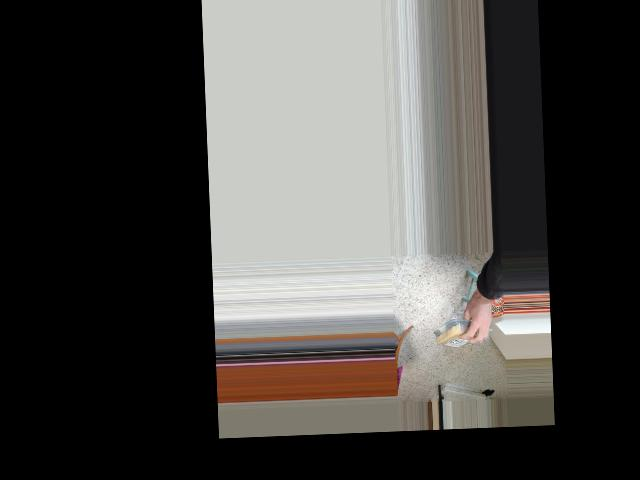cheese: (431, 316, 486, 351)
